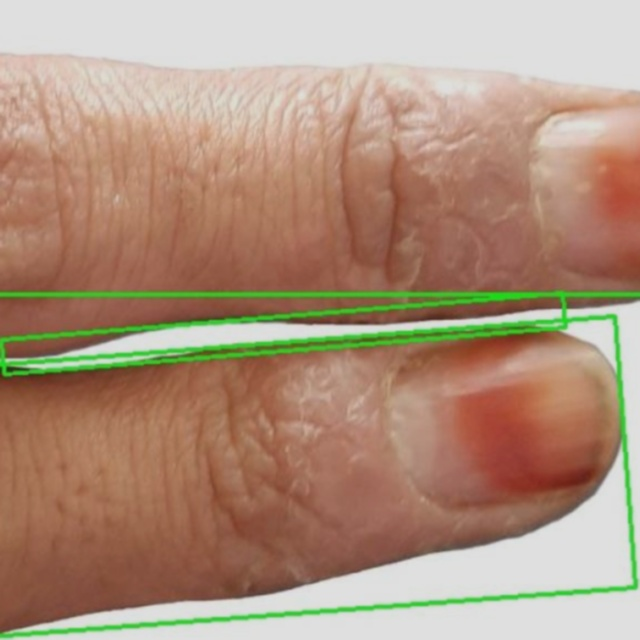Contact Dermatitis: (0, 294, 639, 639), (0, 316, 636, 637), (2, 294, 566, 374)
